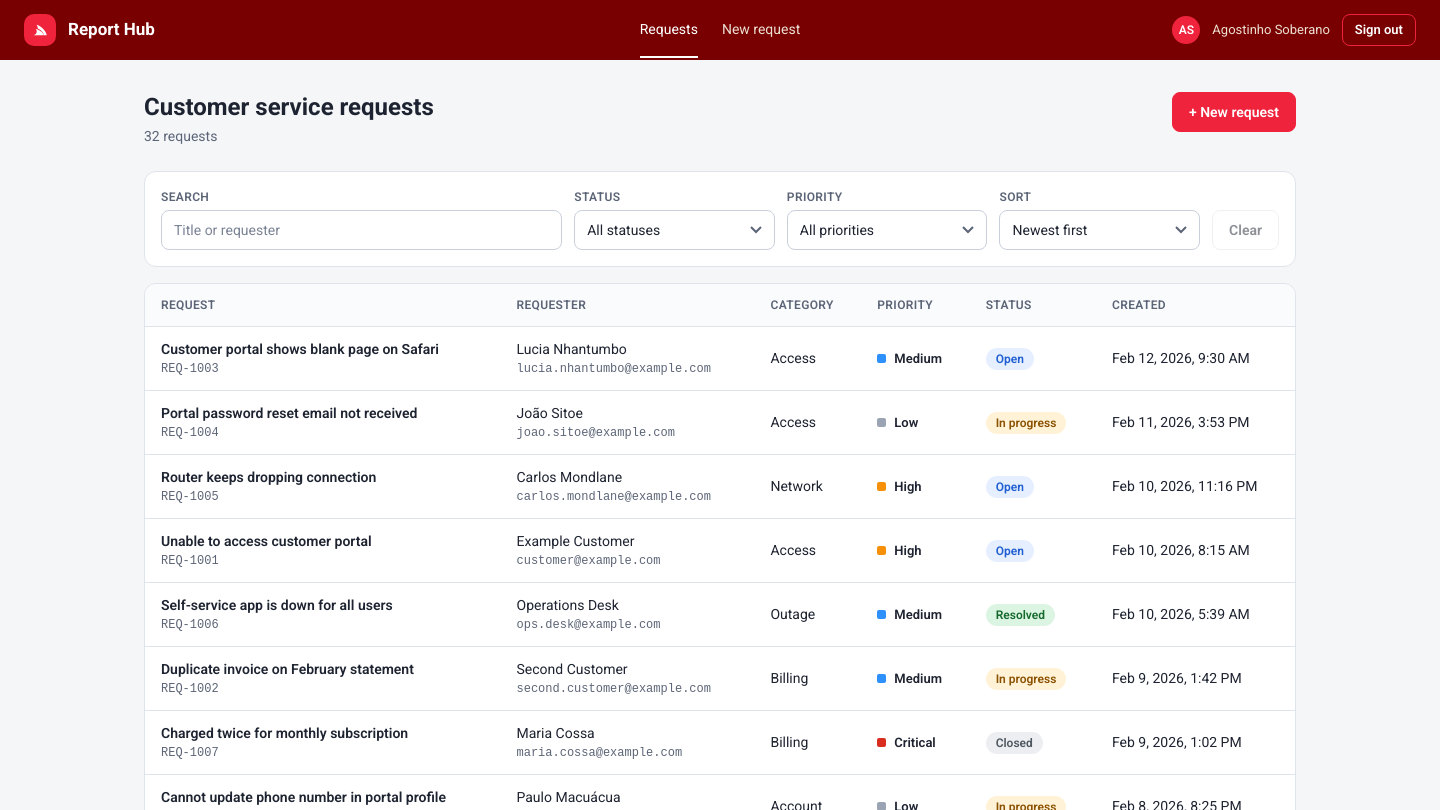
sign-in › signs out
This screenshot has width=1440, height=810.
Click the button "Sign out" at (1379,30), box [1342,14,1416,46]
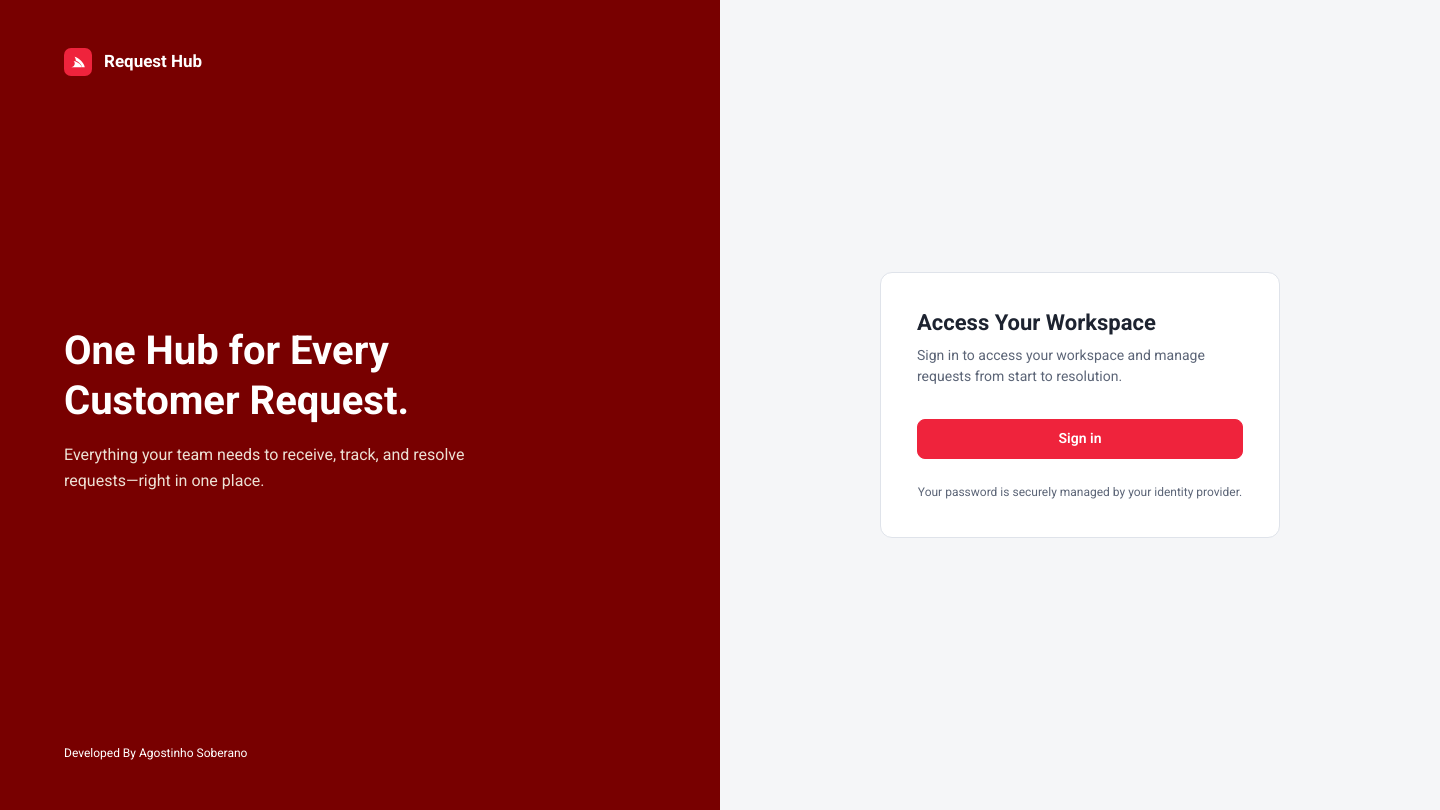
Check: the heading "Access Your Workspace" is shown, box [917,310,1156,335]
